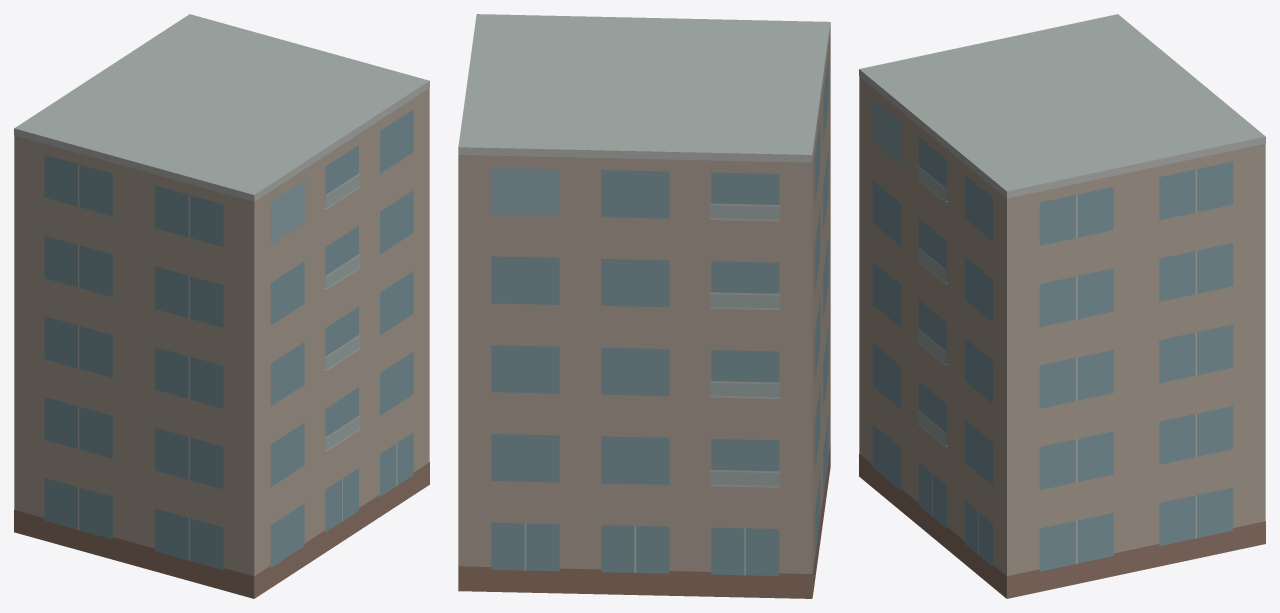
The model's file is survey-upis-33025379.glb.
The picture shows the model from 3 angles, left to right: view 1: azimuth 30°, elevation 25°; view 2: azimuth 150°, elevation 25°; view 3: azimuth 270°, elevation 25°; orthographic projection. The views are drawn at different scales.
Parts seen in each view (by area): view 1: survey-upis-33025379.tmp; view 2: survey-upis-33025379.tmp; view 3: survey-upis-33025379.tmp.
Boxes of the visible parts, x1,y1,x2,y2 form: survey-upis-33025379.tmp: (14, 14, 429, 598); survey-upis-33025379.tmp: (458, 14, 830, 598); survey-upis-33025379.tmp: (859, 14, 1265, 598).
Size of the model in its own units: 13.18 by 14.1 by 12.77.
